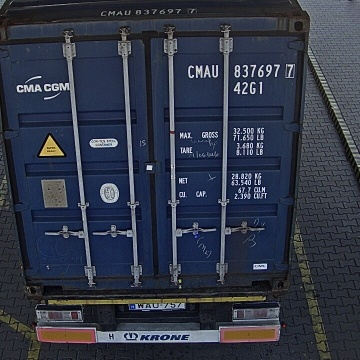serial_id: (188, 64, 294, 78)
